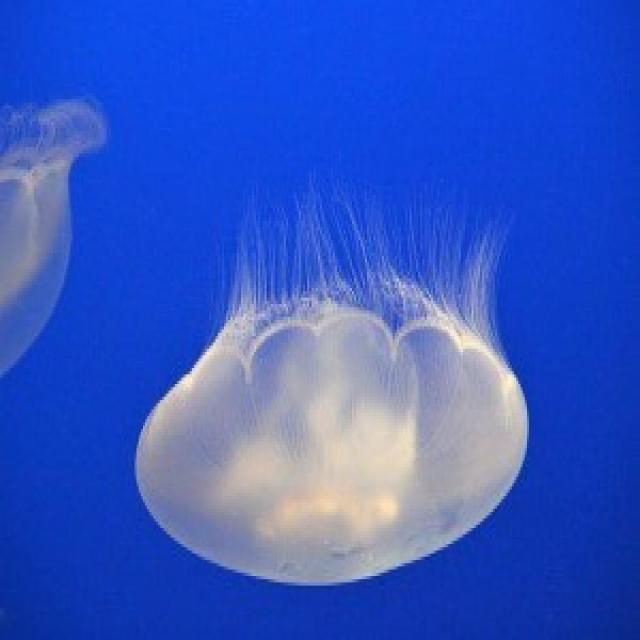Jellyfish: (126, 180, 548, 584), (0, 72, 107, 387)
